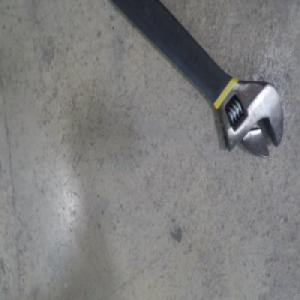AdjustableWrench: (106, 0, 280, 160)
